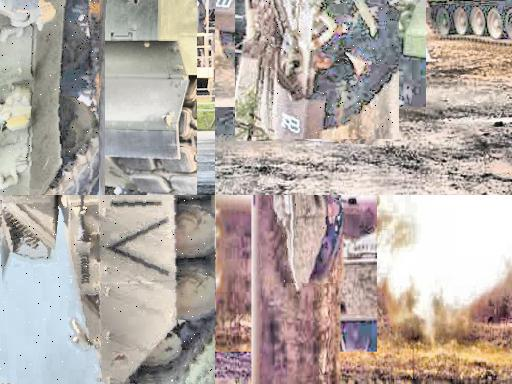tanks: (1, 196, 216, 384), (1, 1, 100, 196), (265, 1, 399, 139), (278, 200, 344, 284), (429, 1, 512, 45), (252, 196, 266, 384)
